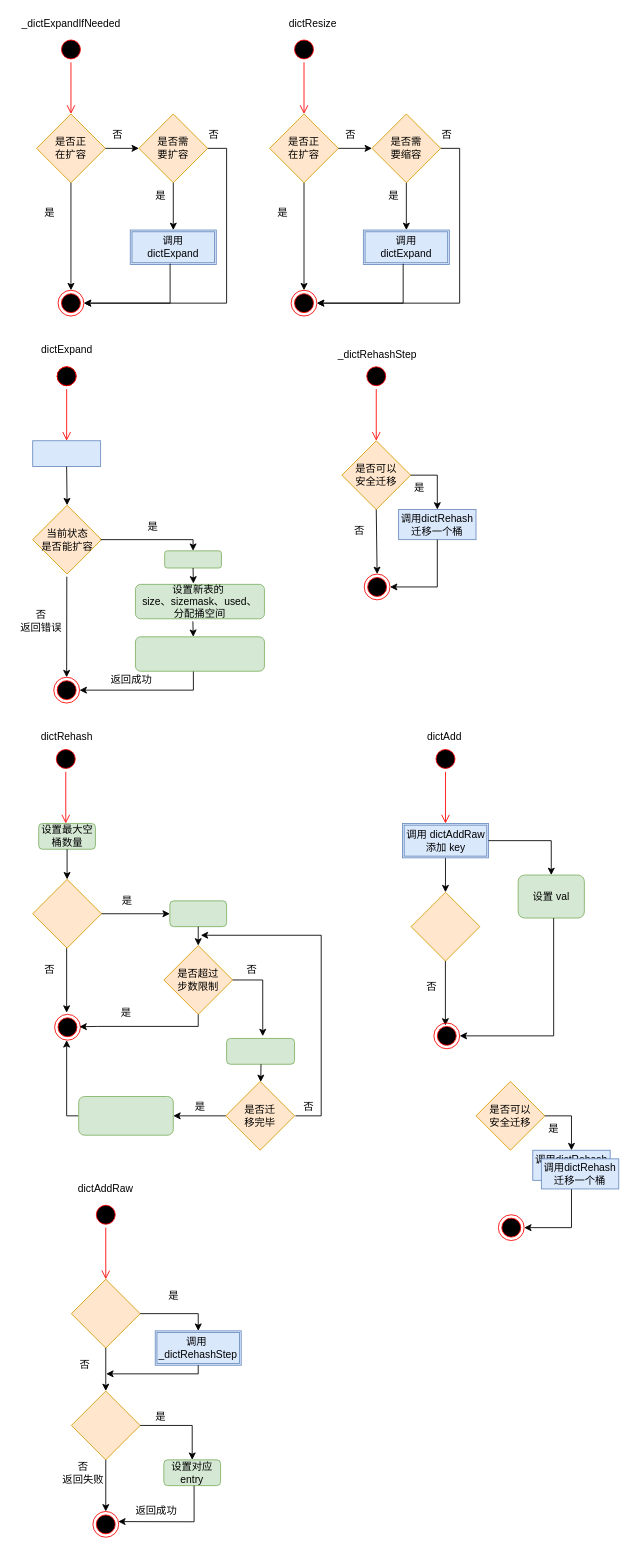
This 634x1552 diagram has some shape labels left out. Each missing label, with the centre of its shape:
启用字典 table[1]元素、 设置 rehashidx: the point at 199,653
开始 rehash: the point at 198,913
新建 dictht: the point at 192,559
是否 rehash: the point at 105,1313
是否真在 rehash: the point at 66,913
是否能 找到 key: the point at 105,1425
求出下一个 哈希表大小: the point at 66,453
添加是 否成功: the point at 445,926
迁移一个桶中的所有数据: the point at 260,1051
重置 table[0]、table[1]、 重置 rehashidx: the point at 125,1115
